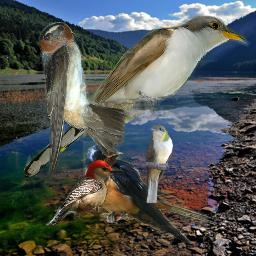Cuckoo: (19, 13, 251, 181), (144, 124, 173, 203)
Swallow: (83, 141, 217, 243), (38, 22, 125, 178)
Woodpecker: (45, 158, 125, 227)
